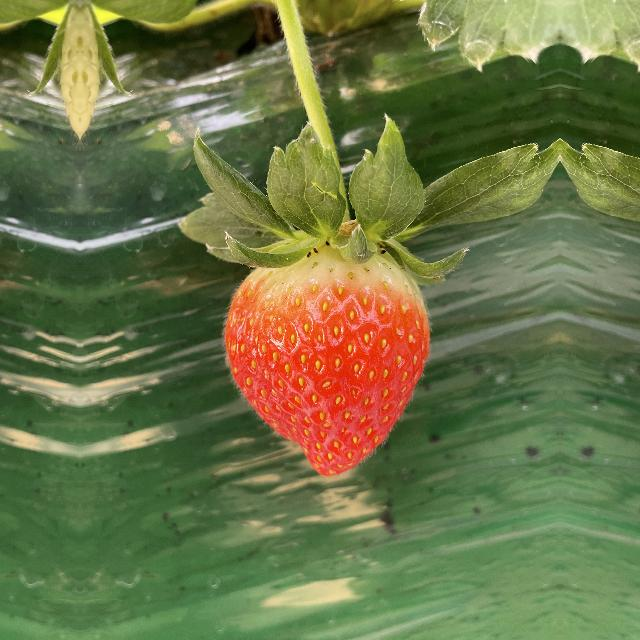Health_100: (213, 222, 443, 476)
